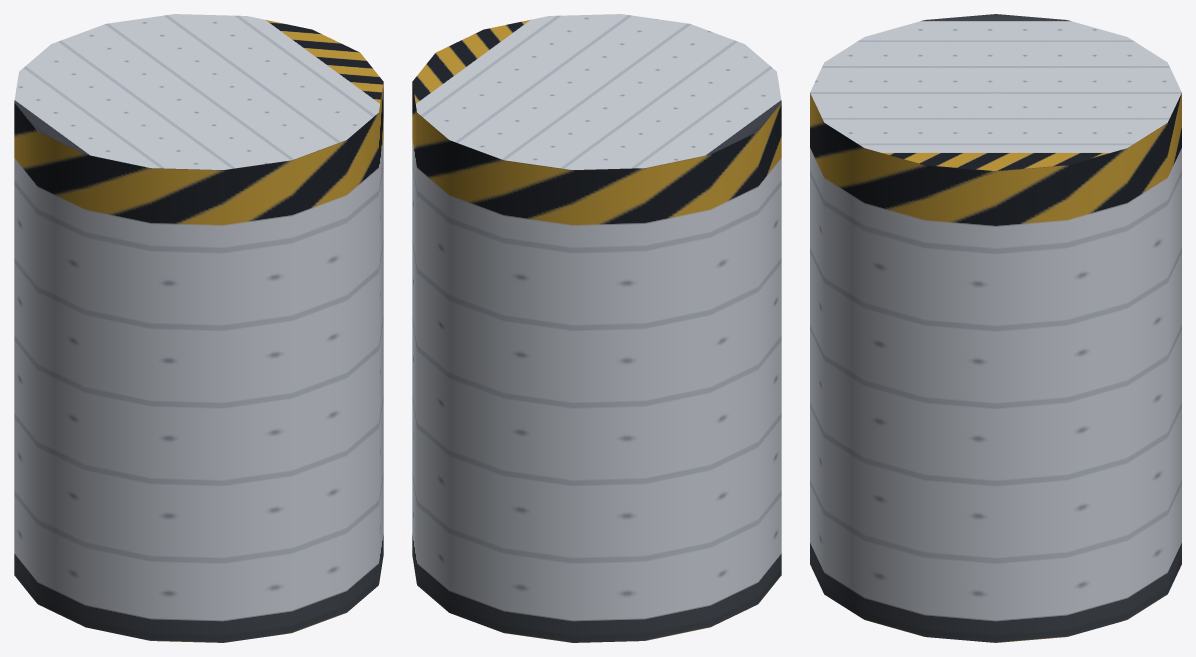
Rendered from srb-small_rt-5-flea-srb.glb.
3 views of the same model, side by side, from view 1: azimuth 30°, elevation 25°; view 2: azimuth 150°, elevation 25°; view 3: azimuth 270°, elevation 25° (orthographic).
Parts seen in each view (by area): view 1: RT-5 "Flea" SRB; view 2: RT-5 "Flea" SRB; view 3: RT-5 "Flea" SRB.
Part boxes in pixels (left/top/right/bottom): RT-5 "Flea" SRB: left=14, top=14, right=383, bottom=642; RT-5 "Flea" SRB: left=412, top=14, right=781, bottom=642; RT-5 "Flea" SRB: left=810, top=14, right=1181, bottom=642.
Size of the model in its own units: 1 by 1.4 by 1.
Materials: 1 (1 with a texture image).
